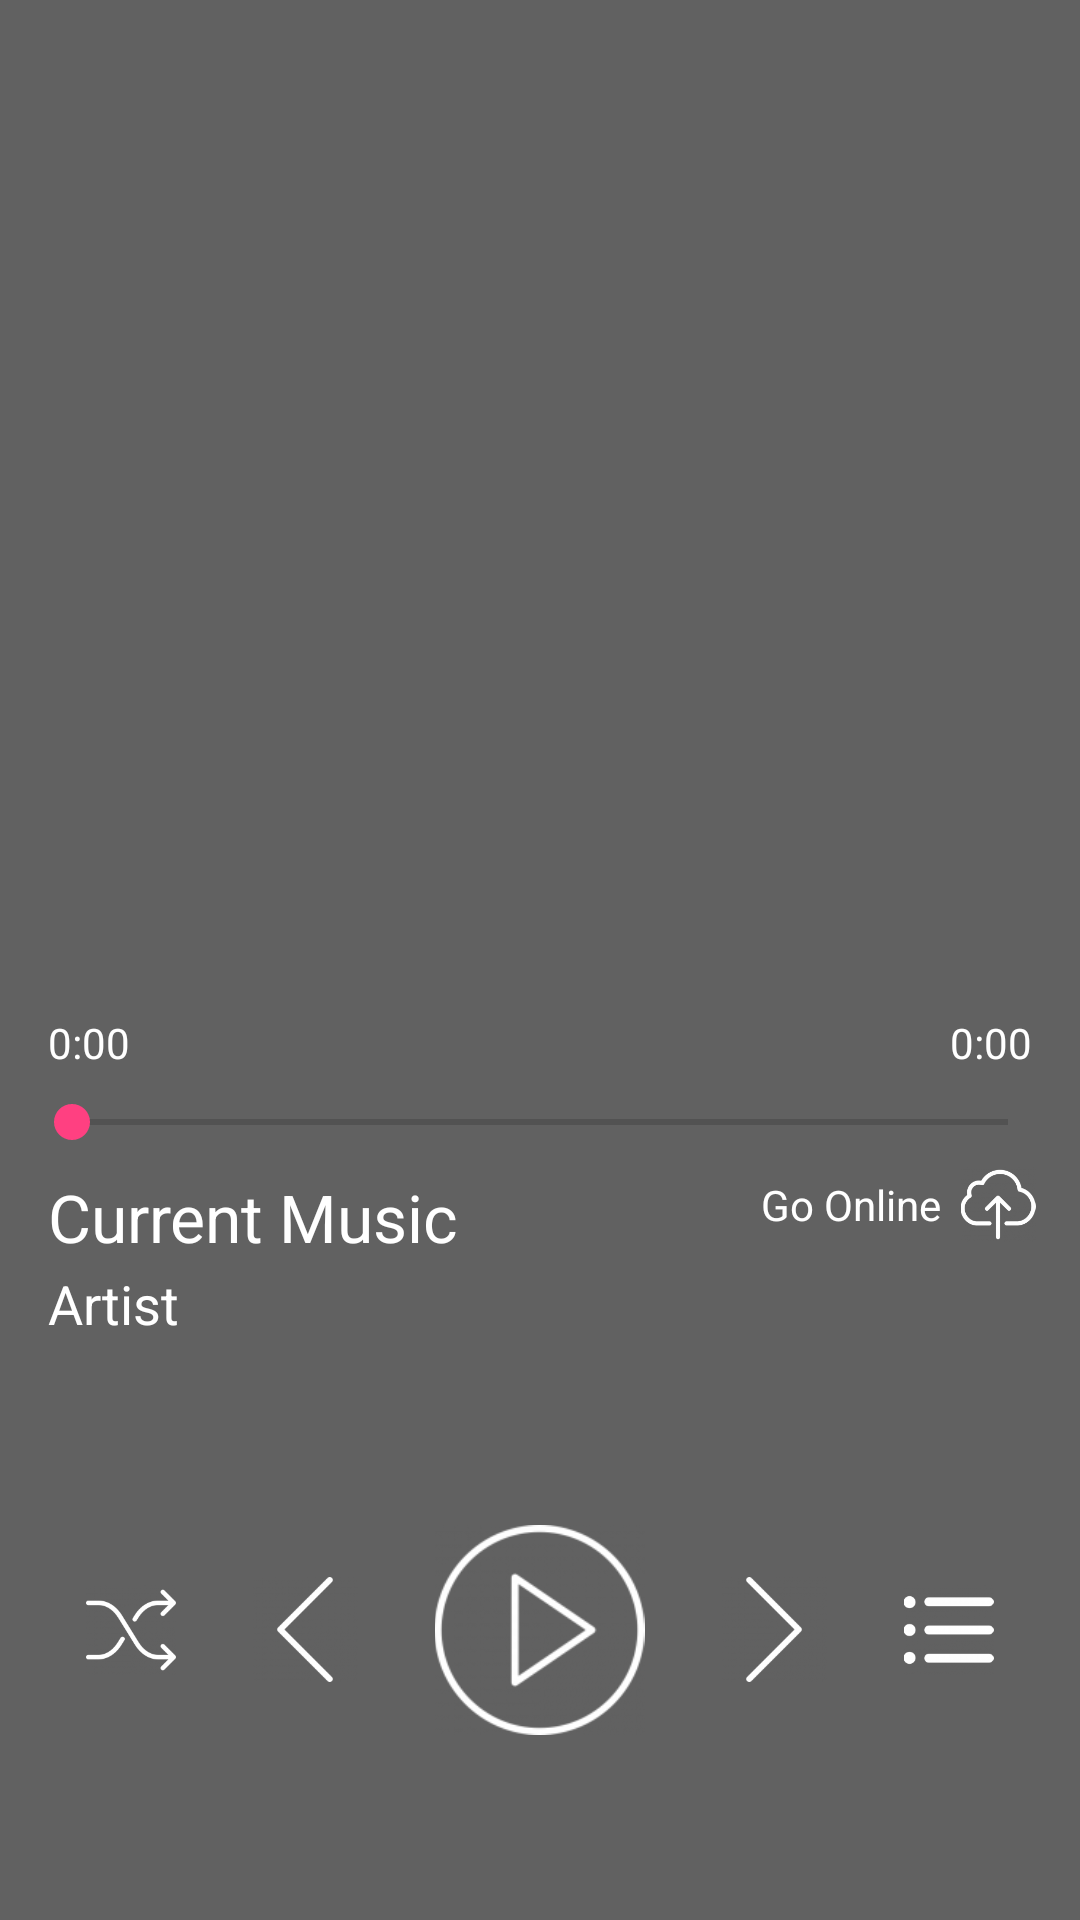

Point at icon controls on the screen. Image size 1080px×1920px, points as (x=x, y=y).
back: (x=305, y=1629)
library: (x=949, y=1630)
next: (x=774, y=1629)
play: (x=540, y=1630)
shuffle: (x=131, y=1630)
